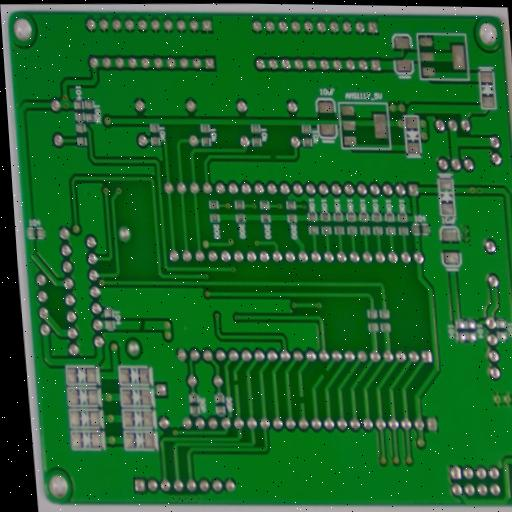open_circuit: (136, 320, 149, 333), (321, 366, 330, 380), (267, 152, 279, 162), (297, 394, 306, 406), (232, 377, 240, 388)
